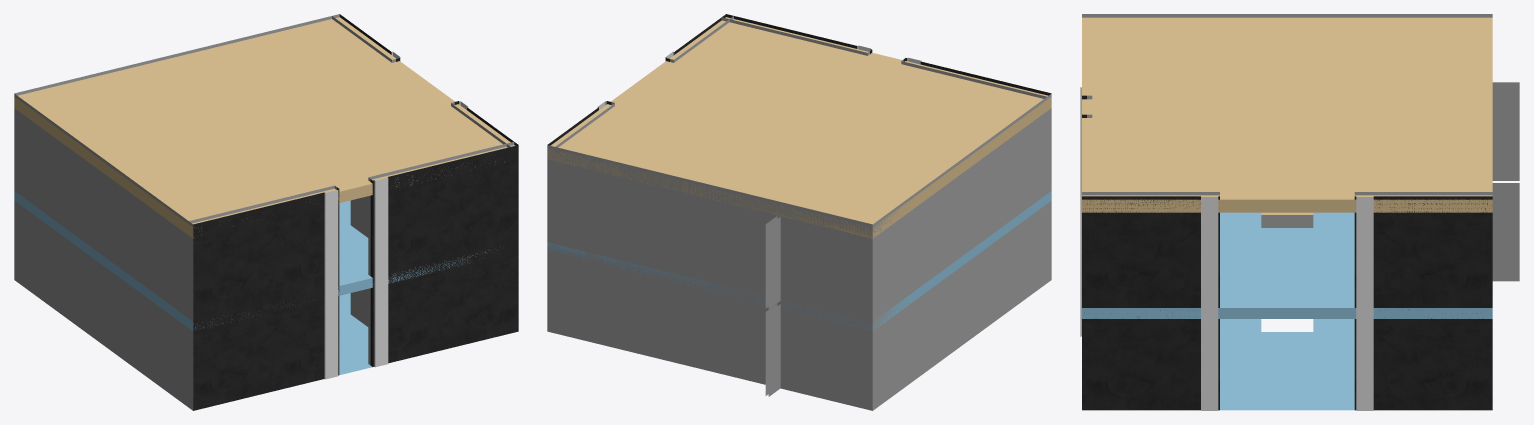
The model's file is meshset_police.fbx.
3 views of the same model, side by side, from view 1: azimuth 30°, elevation 25°; view 2: azimuth 150°, elevation 25°; view 3: azimuth 270°, elevation 25° (orthographic). The views are drawn at different scales.
Visible parts, largest first — view 1: police_set; view 2: police_set; view 3: police_set.
Boxes of the visible parts, bbox=[...] form: police_set: bbox=[14, 14, 518, 410]; police_set: bbox=[547, 14, 1051, 410]; police_set: bbox=[1080, 14, 1519, 410].
Bounding box in the file's own units: 2109 × 1150 × 2141.
